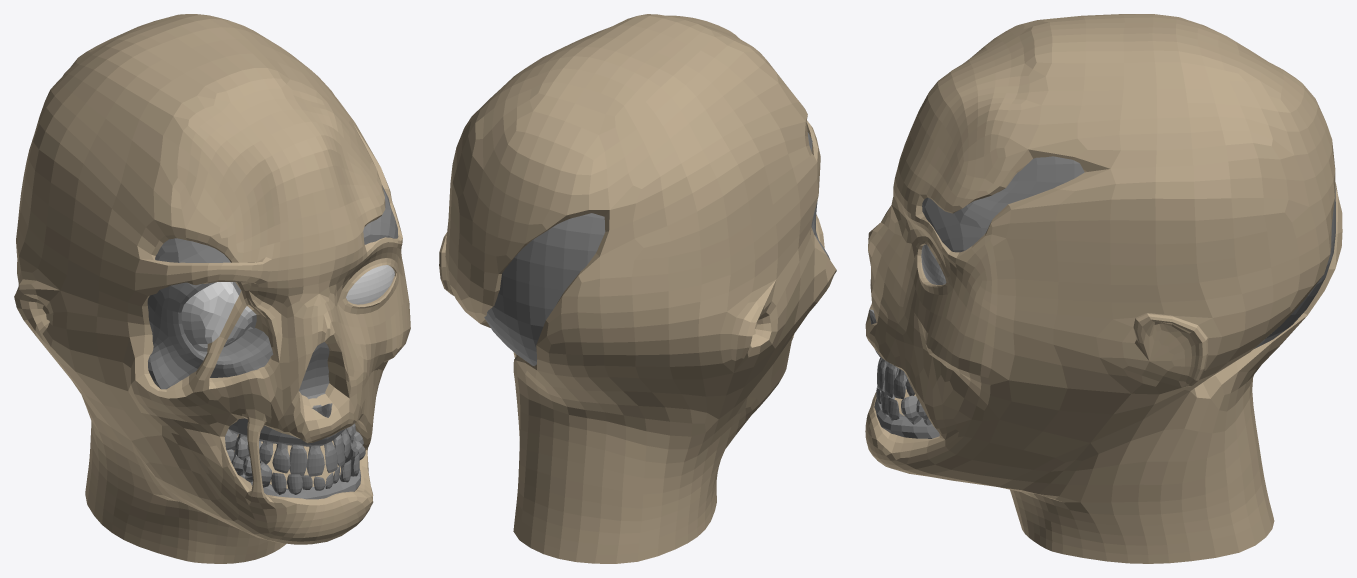
File: SkullOriginal.fbx
3 renders of one model, left to right at view 1: azimuth 30°, elevation 25°; view 2: azimuth 150°, elevation 25°; view 3: azimuth 270°, elevation 25°, orthographic. The views are drawn at different scales.
Parts seen in each view (by area): view 1: MESH face zonzon, MESH crane UV; view 2: MESH face zonzon, MESH crane UV; view 3: MESH face zonzon, MESH crane UV.
Part boxes in pixels (x1,y1,x2,y2): MESH face zonzon: (14,14,410,563); MESH crane UV: (147,185,398,499); MESH face zonzon: (439,14,836,563); MESH crane UV: (484,132,830,366); MESH face zonzon: (865,14,1342,563); MESH crane UV: (869,156,1335,438).
Bounding box in the file's own units: 355 × 516 × 453.
